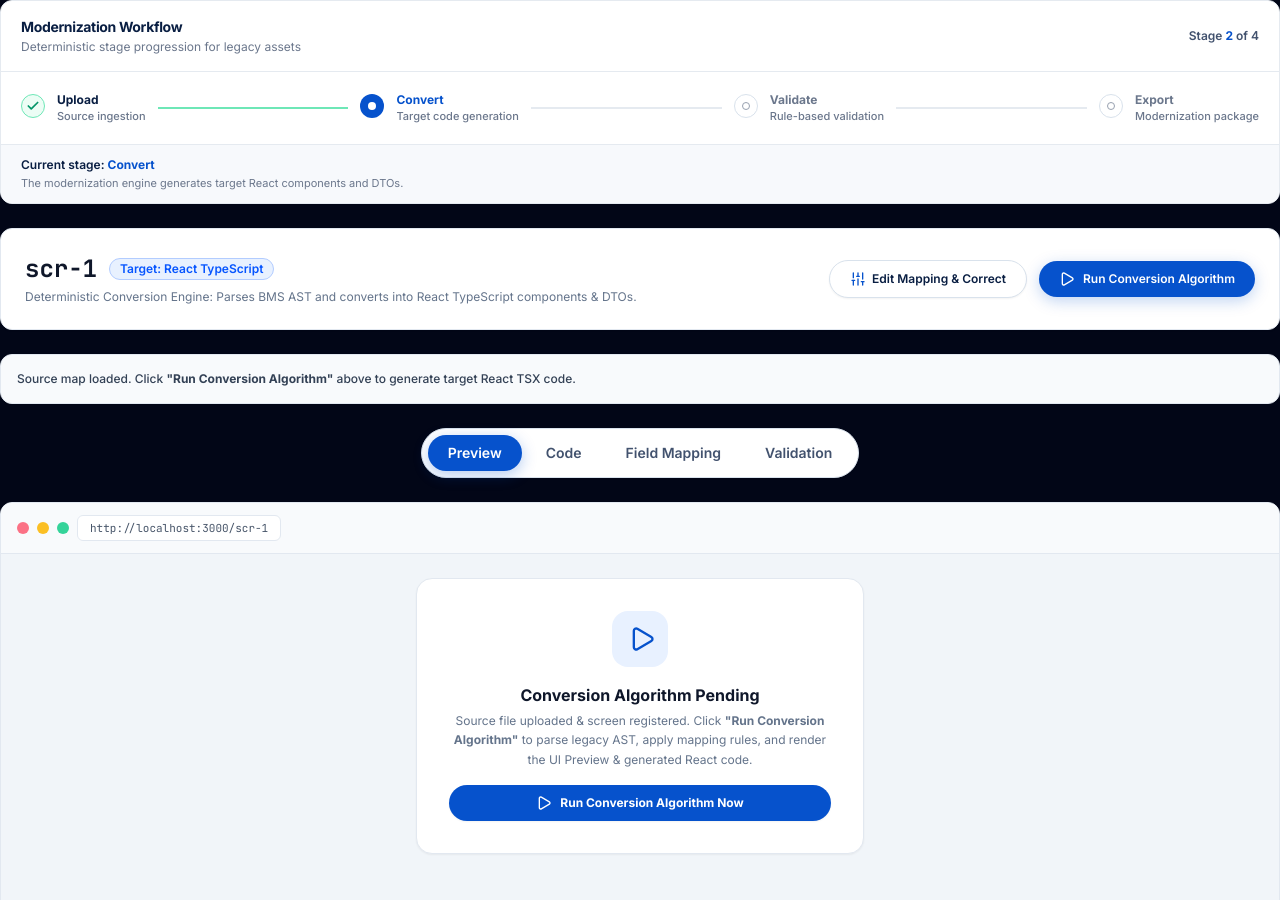
Test: ConvertScreenPage - Field Mapping tab (UC-98) › shows real saved field mappings when they exist
What coordinates should you click on to do the following:
click the button "Field Mapping"
I would click on:
 (673, 453)
Its box is [606,435,741,471].
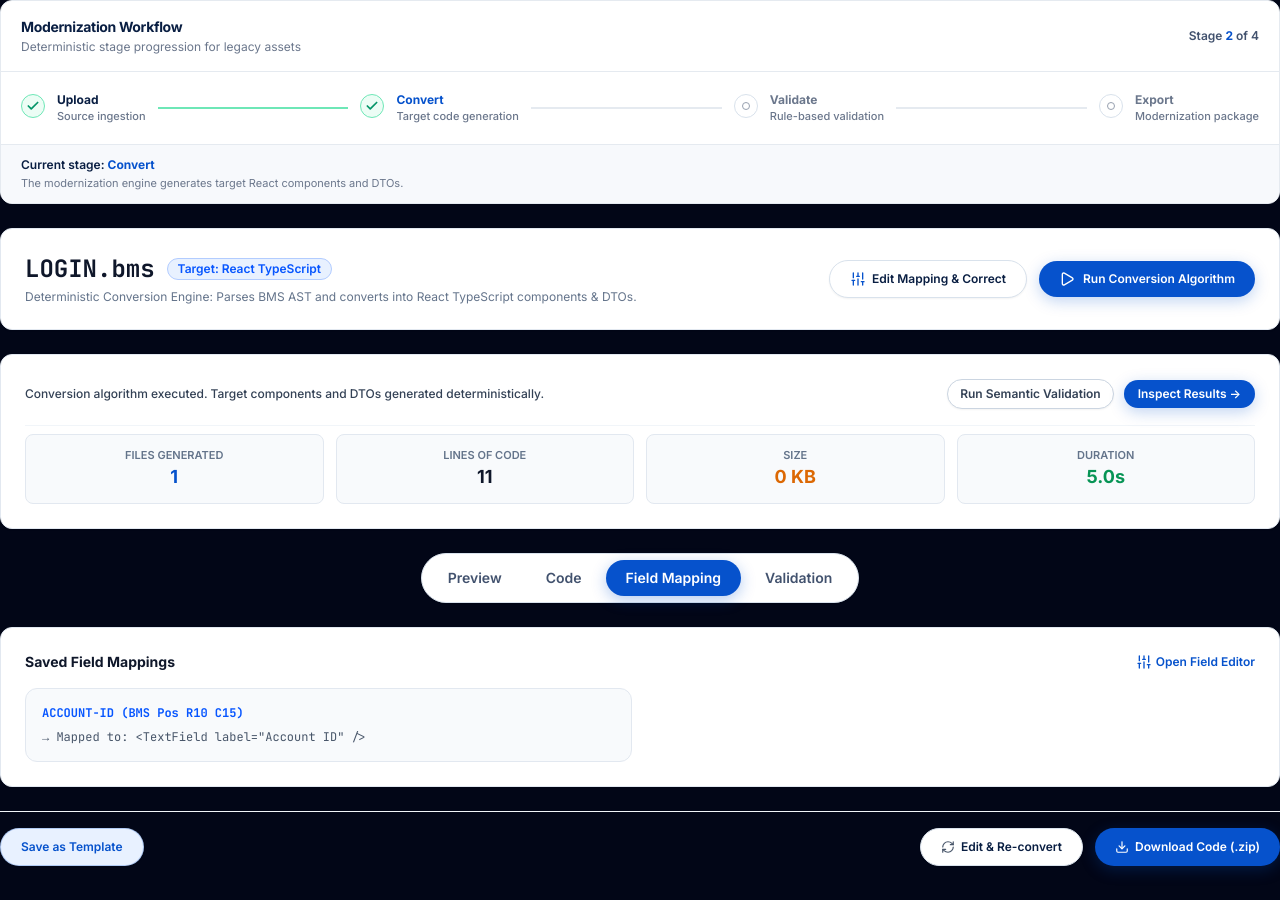
Now the text "ACCOUNT-ID (BMS Pos R10 C15)" is shown, box [42,705,244,721]
Now the text "→ Mapped to: <TextField label=\"Account ID\" />" is shown, box [42,729,366,745]
Now the heading "Saved Field Mappings" is shown, box [25,652,175,672]
